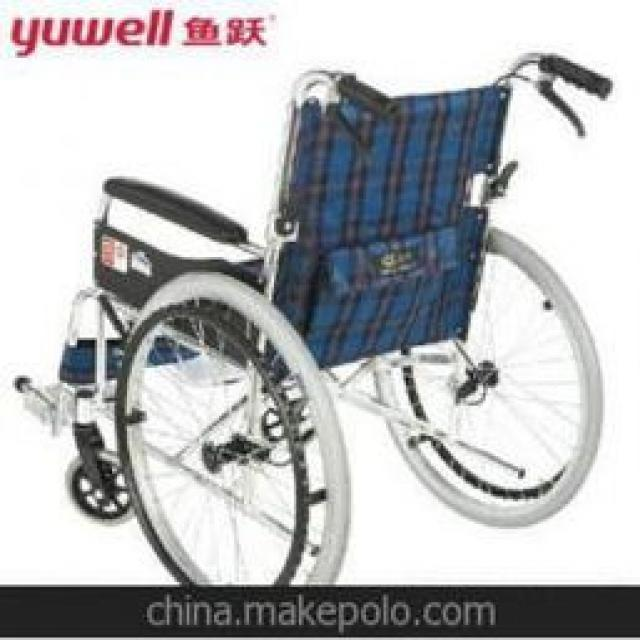wheelchair: (18, 51, 638, 574)
